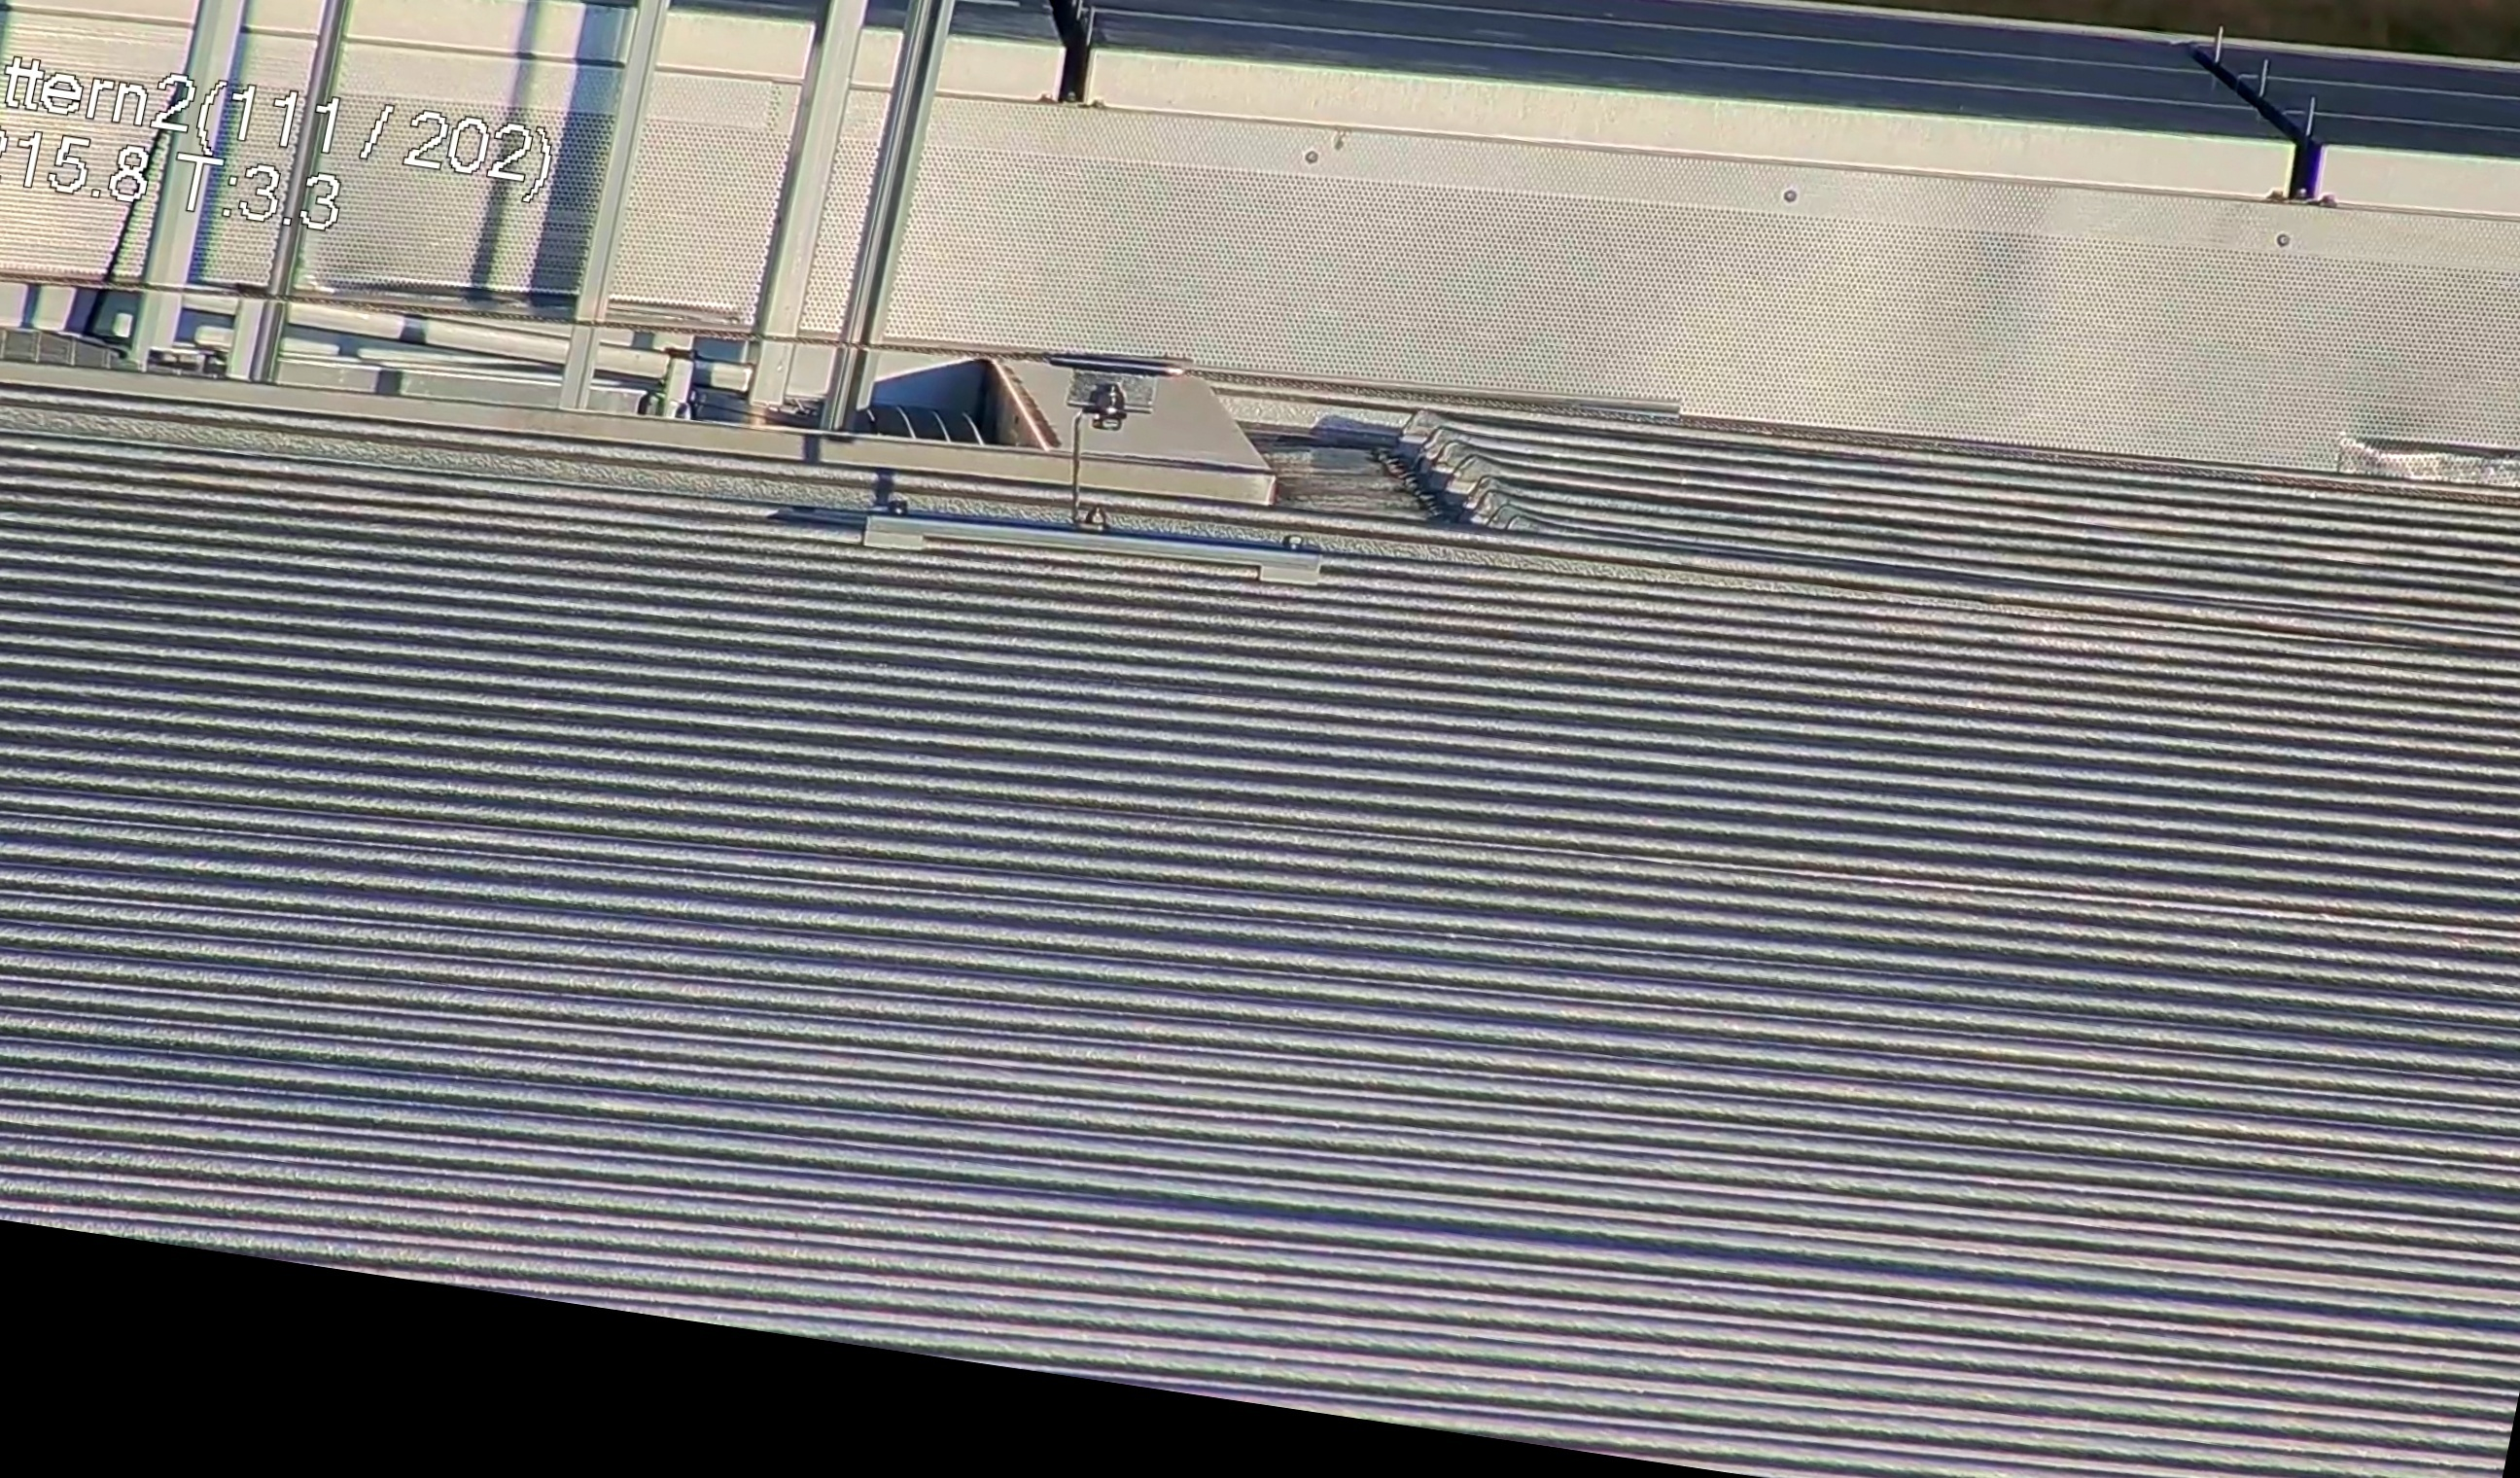Other: (962, 0, 1147, 125)
